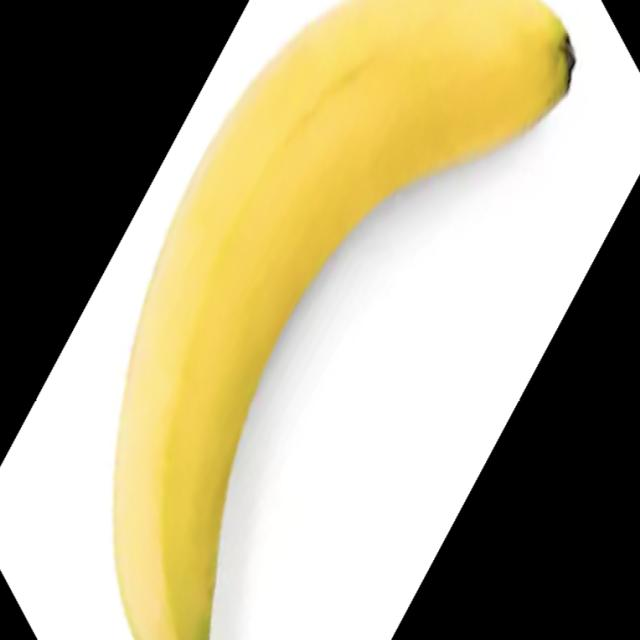god quality banana: (113, 0, 575, 638)
